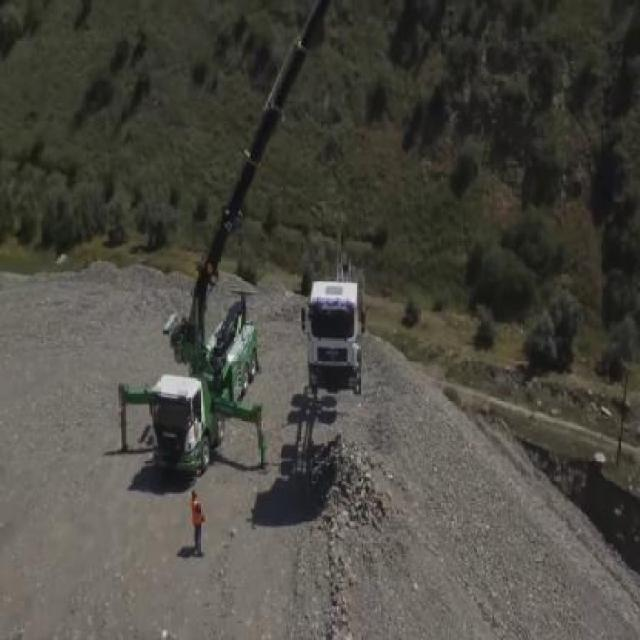Mobile Crane: (115, 0, 324, 478)
